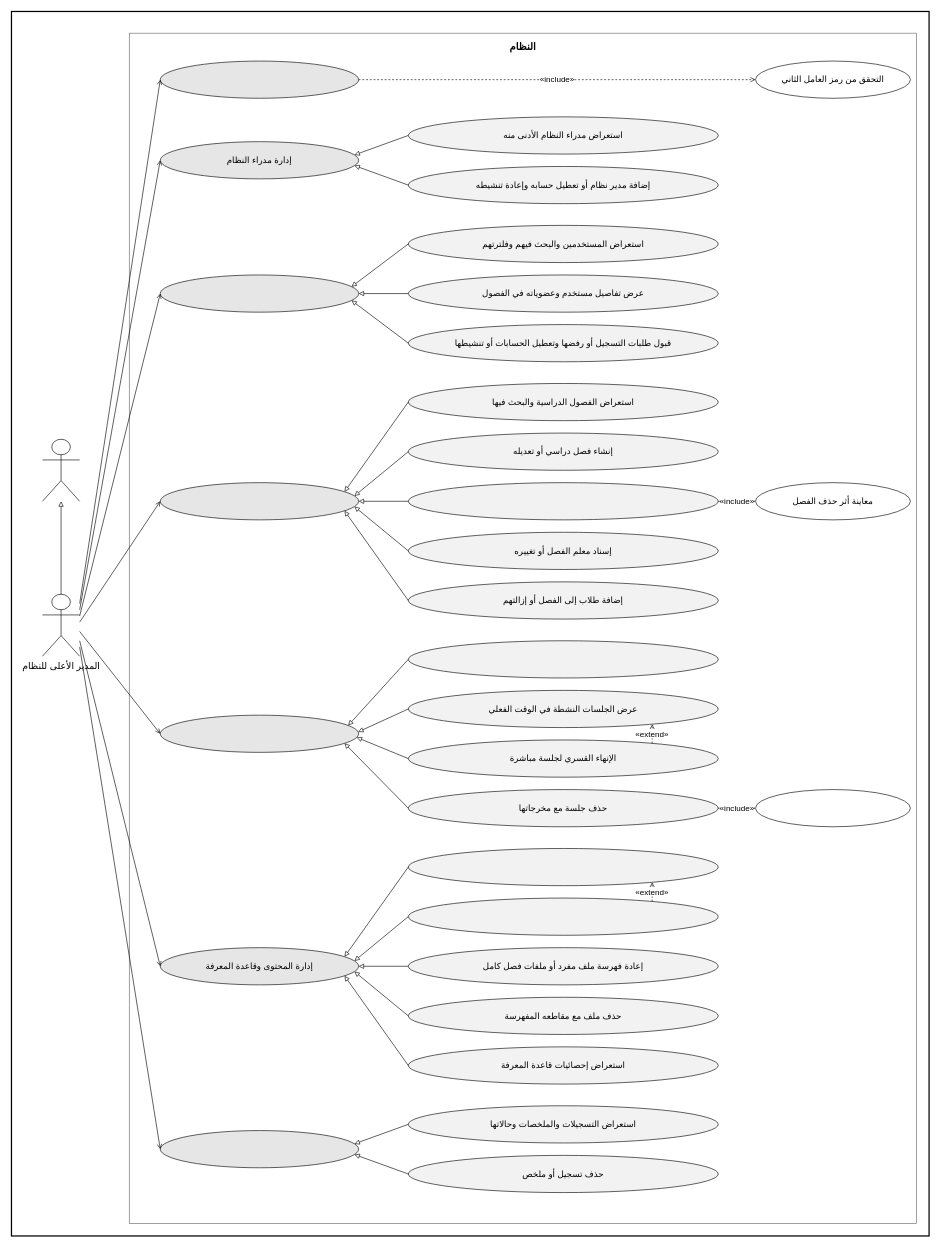
Image size: 940x1247. Some labels were removed from this diagram. Here are the shapes that lost their labels. From the top down, the centre of each, then its label:
(x=259, y=79): تسجيل الدخول بالمصادقة الثنائية
(x=259, y=293): إدارة المستخدمين على مستوى المنصة
(x=61, y=470): مستخدم مصرّح له
(x=259, y=501): الإشراف على الفصول الدراسية
(x=563, y=501): حذف فصل دراسي
(x=563, y=659): استعراض الجلسات والبحث فيها
(x=259, y=733): الإشراف على جلسات التعلم
(x=832, y=808): معاينة أثر حذف الجلسة
(x=563, y=867): استعراض الملفات وحالة فهرستها
(x=563, y=916): عرض تفاصيل أخطاء الفهرسة
(x=259, y=1149): إدارة التسجيلات والملخصات
